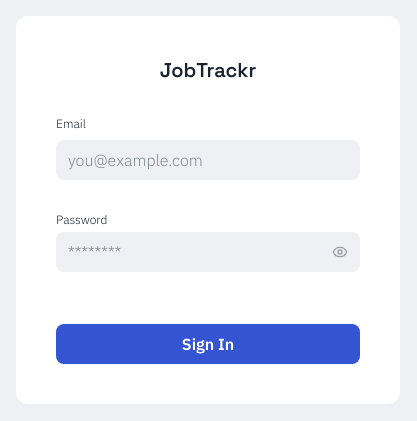
LoginForm component › should toggle password visibility when eye icon is clicked
Click the button named "show password".
click(340, 252)  # box [332, 244, 348, 260]
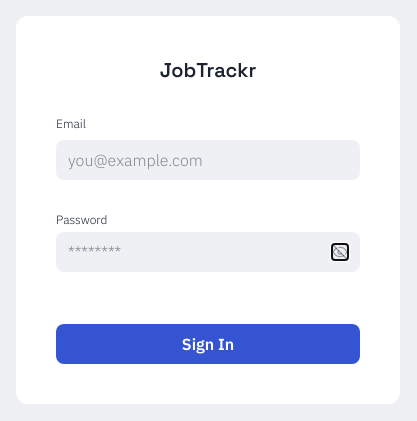
Now the button named "hide password" is shown
Click the button named "hide password".
click(340, 252)  # box [332, 244, 348, 260]
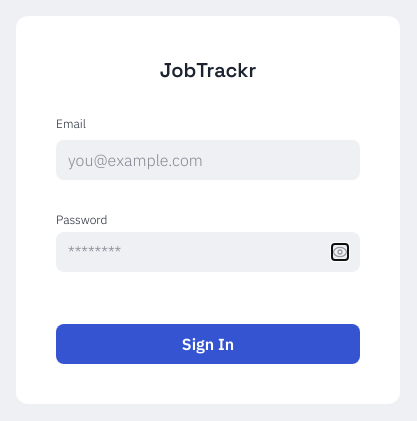
Now the button named "show password" is shown, box [332, 244, 348, 260]
